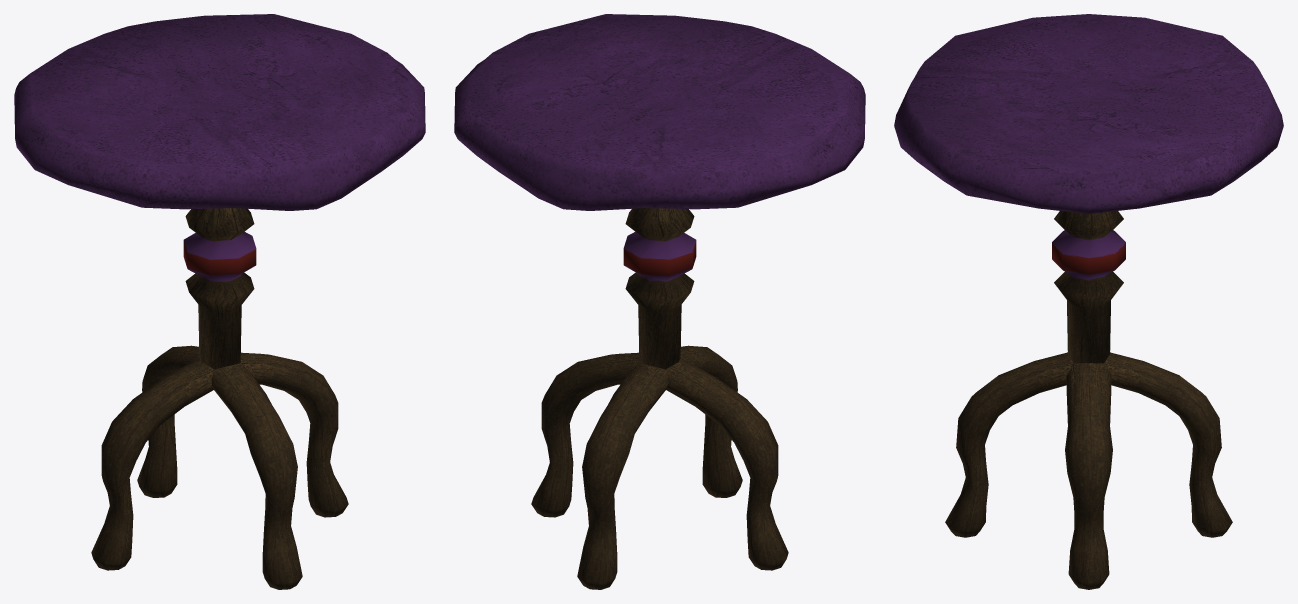
The model's file is Table - Circle.fbx.
The picture shows the model from 3 angles, left to right: view 1: azimuth 30°, elevation 25°; view 2: azimuth 150°, elevation 25°; view 3: azimuth 270°, elevation 25°; orthographic projection.
Visible parts, largest first — view 1: Table - Circle; view 2: Table - Circle; view 3: Table - Circle.
Boxes of the visible parts, left/top/right/bottom form: Table - Circle: left=14, top=14, right=425, bottom=589; Table - Circle: left=454, top=14, right=865, bottom=589; Table - Circle: left=894, top=14, right=1283, bottom=589.
Size of the model in its own units: 0.907 by 1.04 by 0.8396.
